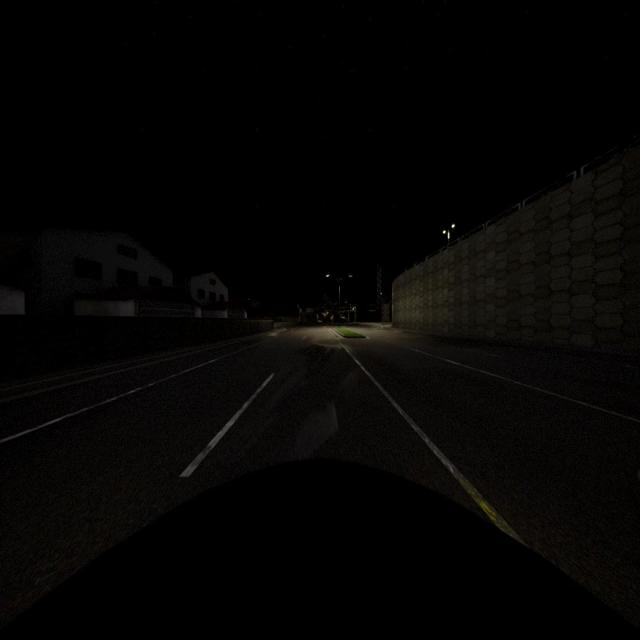Vehicle: (0, 462, 640, 638)
